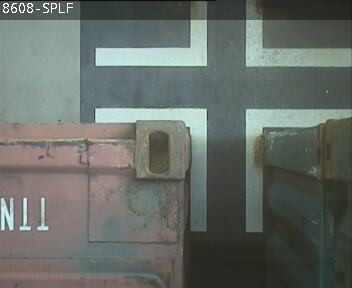groundmarker_1: (94, 108, 352, 233), (94, 1, 352, 67)
